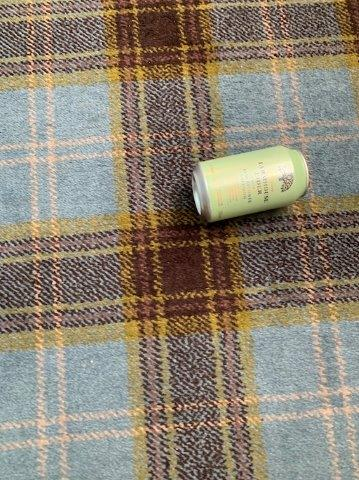kaleng: (194, 147, 308, 220)
